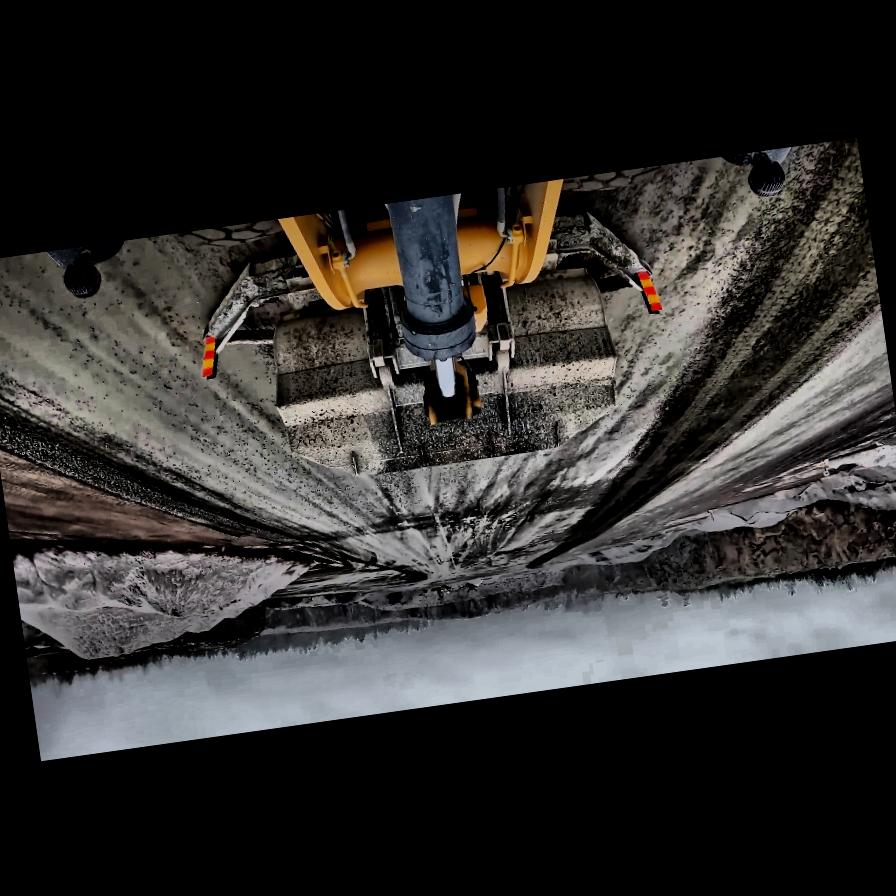anchor: (419, 354, 479, 425)
pile of gravel: (19, 580, 276, 683), (90, 528, 322, 634), (10, 528, 150, 628), (771, 461, 896, 528), (678, 490, 806, 538), (825, 439, 896, 480), (588, 534, 670, 568)
